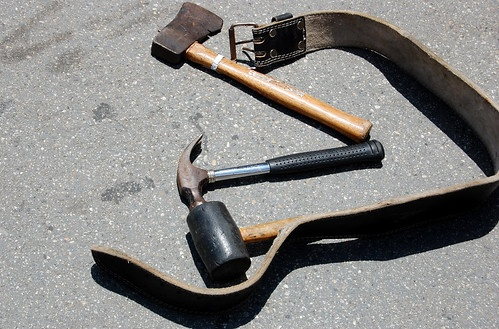hammer: (168, 132, 389, 282)
